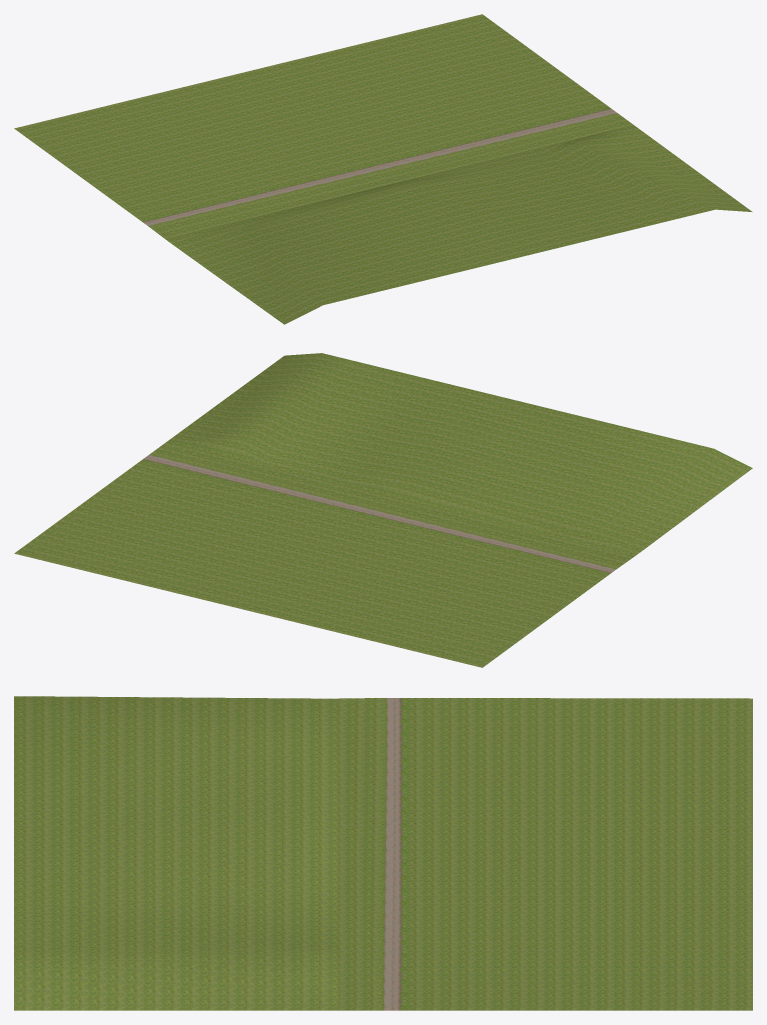
The model's file is road5.FBX.
3 views of the same model, one above another, from view 1: azimuth 30°, elevation 25°; view 2: azimuth 150°, elevation 25°; view 3: azimuth 270°, elevation 25° (orthographic). The views are drawn at different scales.
Visible parts, largest first — view 1: road3; view 2: road3; view 3: road3.
Boxes of the visible parts, left/top/right/bottom form: road3: left=14, top=14, right=752, bottom=324; road3: left=14, top=353, right=752, bottom=667; road3: left=14, top=696, right=752, bottom=1010.
Bounding box in the file's own units: 12000 × 289 × 12000.
